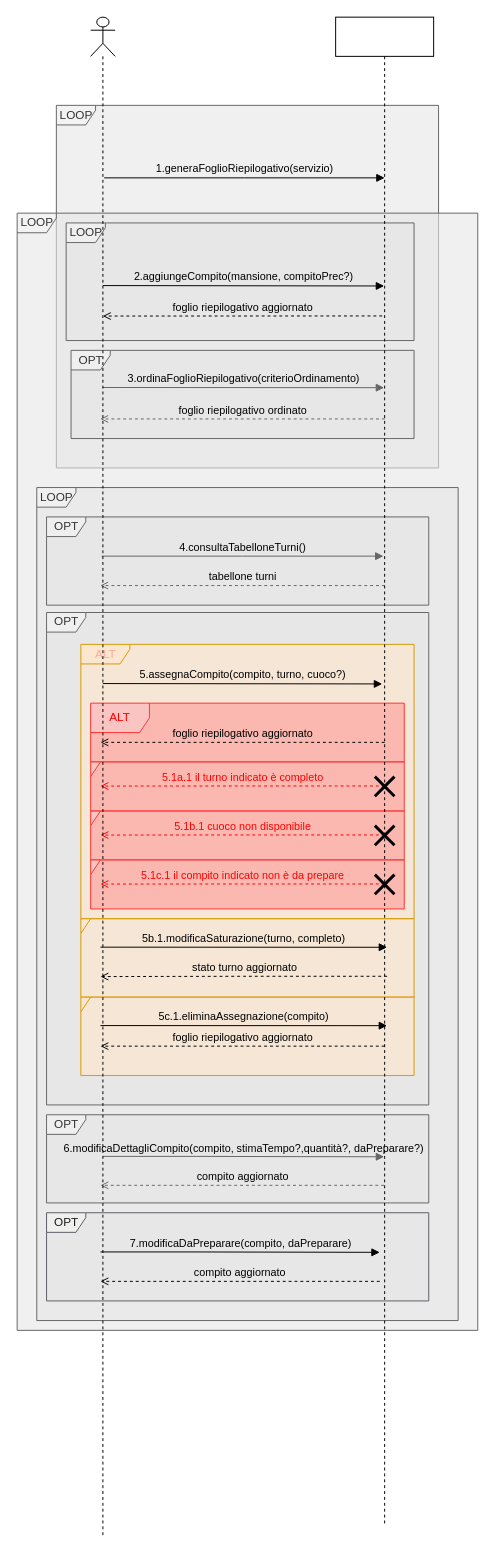
The diagram is 495 pixels wide and 1553 high, and some of its shapes have lost their labels. Each missing label, with the box of its shape:
Chef: (90, 16, 115, 1536)
Sistema: (335, 16, 434, 1526)
